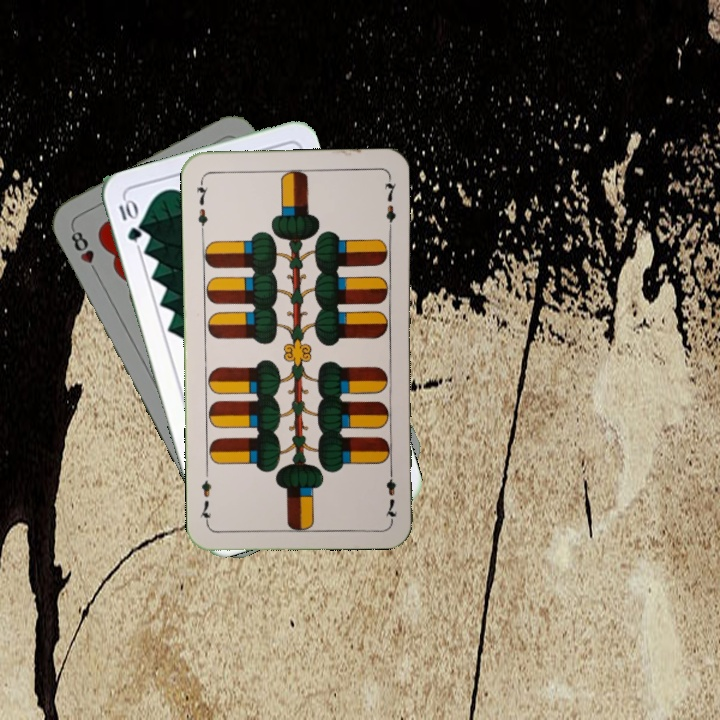E7: (192, 176, 211, 235), (381, 463, 400, 522)
G10: (114, 195, 144, 244)
H8: (67, 224, 102, 278)
